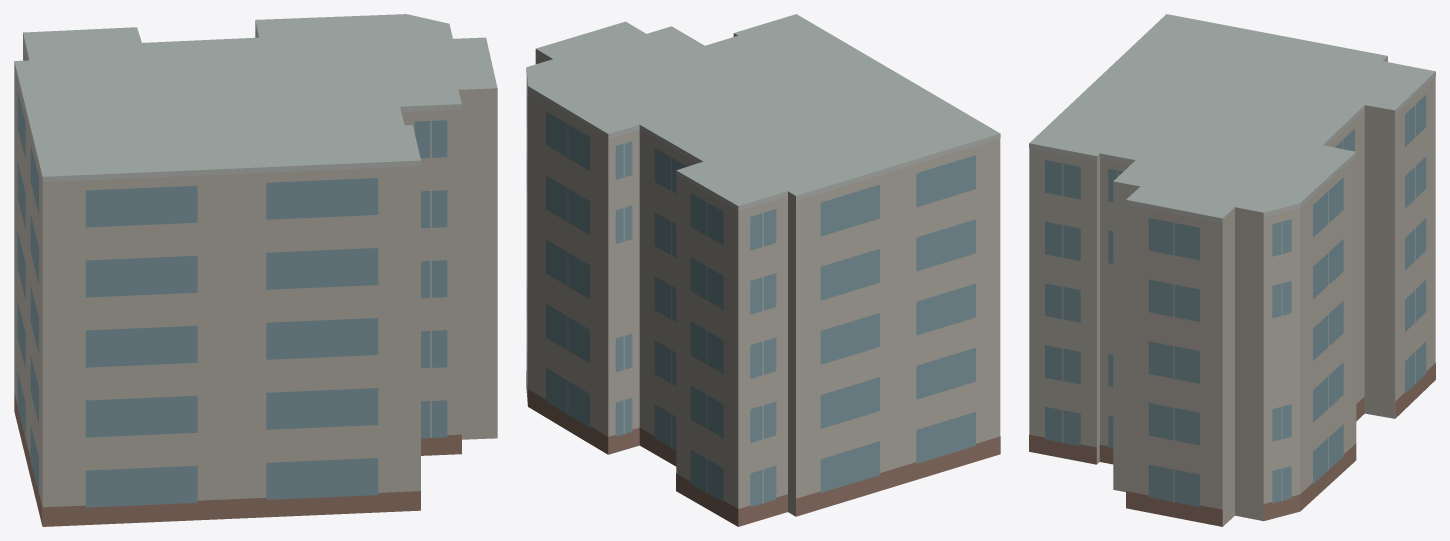
Rendered from survey-upis-32888865.glb.
The picture shows the model from 3 angles, left to right: view 1: azimuth 30°, elevation 25°; view 2: azimuth 150°, elevation 25°; view 3: azimuth 270°, elevation 25°; orthographic projection. The views are drawn at different scales.
Parts seen in each view (by area): view 1: survey-upis-32888865.tmp; view 2: survey-upis-32888865.tmp; view 3: survey-upis-32888865.tmp.
Boxes of the visible parts, x1,y1,x2,y2 form: survey-upis-32888865.tmp: (14, 14, 497, 526); survey-upis-32888865.tmp: (526, 14, 1000, 526); survey-upis-32888865.tmp: (1029, 14, 1435, 526).
Bounding box in the file's own units: 22.32 × 15.7 × 18.77.
